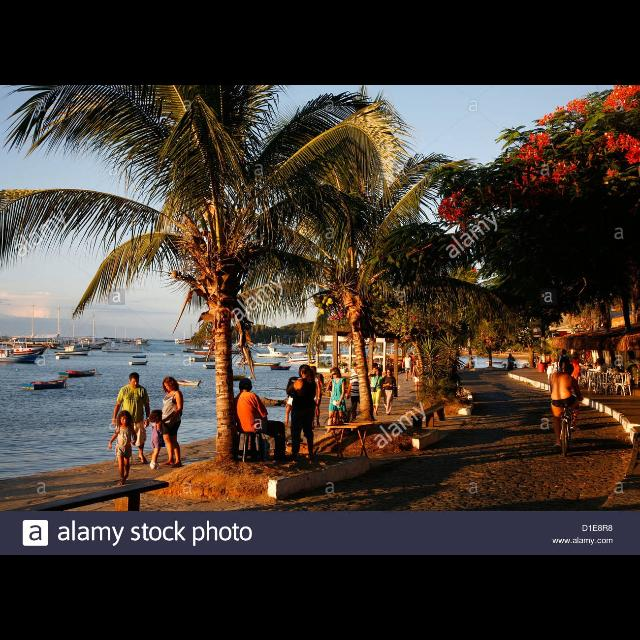head: (238, 378, 254, 394), (163, 377, 177, 393), (128, 372, 140, 390), (298, 365, 312, 379), (562, 362, 574, 376), (288, 378, 300, 390), (120, 412, 130, 426), (152, 411, 164, 422), (352, 364, 362, 376), (332, 368, 341, 380), (310, 366, 318, 376), (376, 368, 382, 376), (386, 368, 392, 376), (561, 350, 567, 356), (374, 364, 378, 370), (574, 353, 578, 359), (406, 354, 410, 358), (510, 354, 512, 358)
person: (233, 377, 289, 463), (112, 372, 152, 466), (548, 362, 584, 452), (287, 364, 319, 464), (158, 376, 185, 469), (108, 410, 138, 488), (286, 376, 312, 444), (325, 368, 347, 437), (346, 364, 370, 426), (147, 409, 167, 471), (306, 366, 322, 430), (366, 367, 384, 418), (379, 367, 396, 415), (568, 352, 588, 392), (368, 362, 382, 410), (555, 348, 571, 389), (402, 352, 414, 382), (508, 353, 516, 371)
